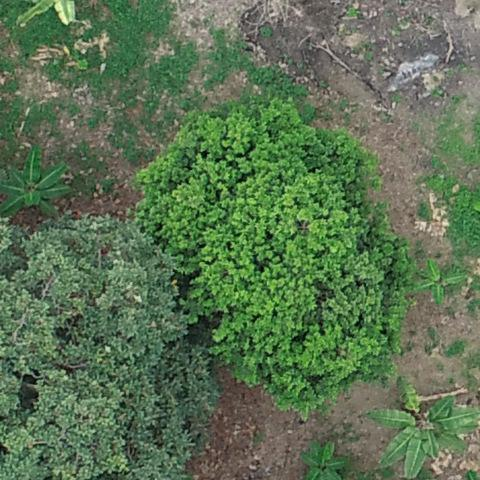Banana-plant: (372, 377, 477, 480), (0, 146, 72, 221), (298, 439, 349, 479)
